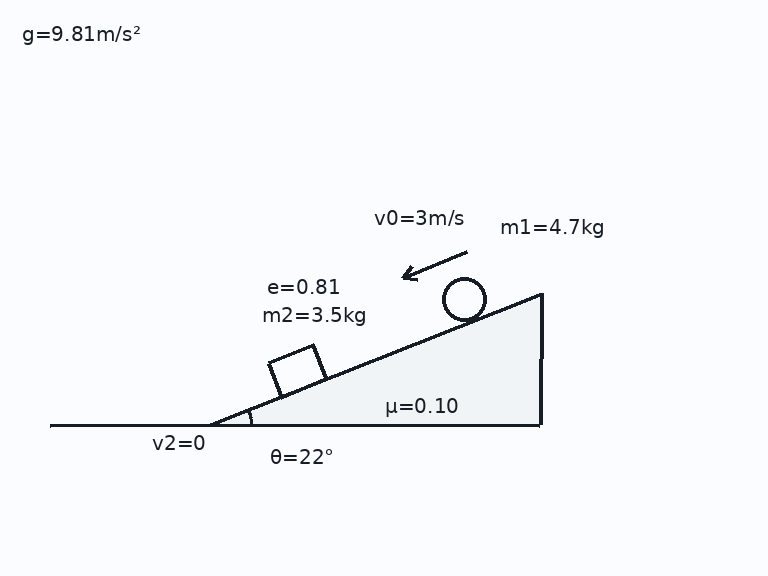ball: (440, 275, 488, 323)
block: (266, 343, 328, 399)
ramp: (209, 290, 541, 427)
